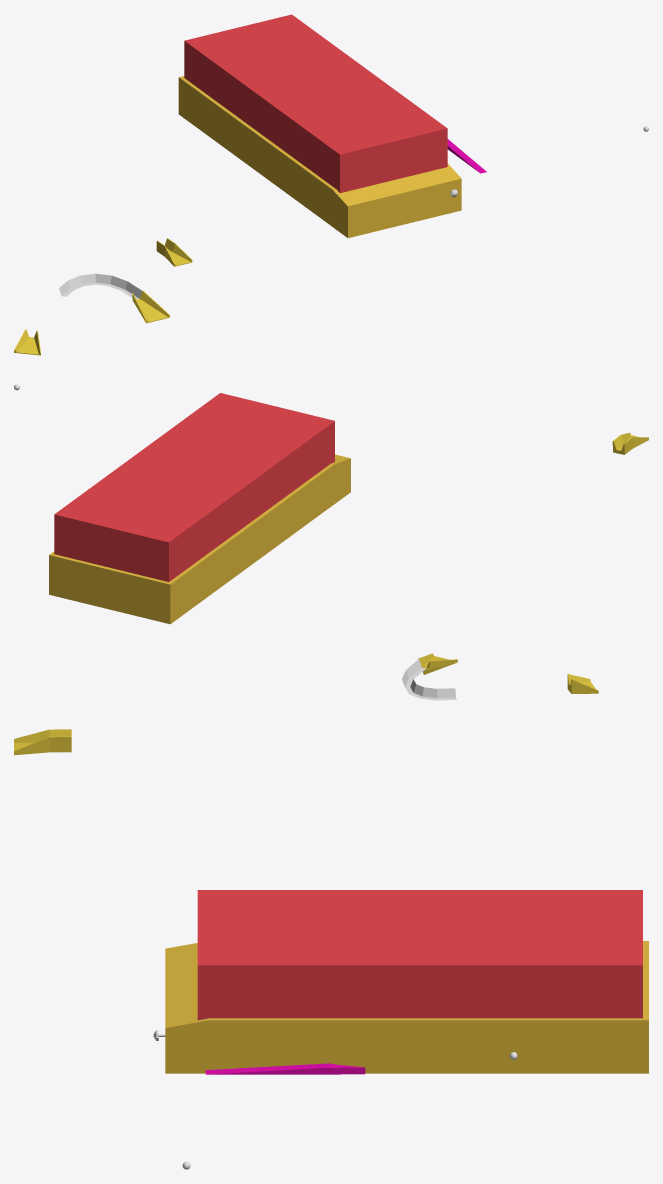
Rendered from table.glb.
3 renders of one model, top to bottom at view 1: azimuth 30°, elevation 25°; view 2: azimuth 150°, elevation 25°; view 3: azimuth 270°, elevation 25°, orthographic. The views are drawn at different scales.
Visible parts, largest first — view 1: glass, near wall, left wall, ramp curve, ramp base, SIMPLE RAMP; view 2: glass, left wall, back wall, ramp curve, near wall, SIMPLE RAMP, SIMPLE RAMP.001, ramp base; view 3: glass, right wall, near wall, back wall, shoot ramp, SIMPLE RAMP.
Boxes of the visible parts, x1,y1,x2,y2 form: glass: [184, 14, 447, 192]; near wall: [333, 163, 461, 237]; left wall: [189, 84, 335, 226]; ramp curve: [59, 273, 142, 299]; ramp base: [132, 290, 169, 323]; SIMPLE RAMP: [156, 238, 192, 266]; glass: [54, 393, 334, 581]; left wall: [178, 463, 334, 615]; back wall: [49, 551, 181, 624]; ramp curve: [402, 659, 456, 700]; near wall: [331, 454, 350, 503]; SIMPLE RAMP: [612, 432, 648, 454]; SIMPLE RAMP.001: [567, 674, 598, 693]; ramp base: [418, 653, 457, 674]; glass: [197, 890, 642, 1020]; right wall: [208, 1018, 619, 1073]; near wall: [165, 943, 208, 1073]; back wall: [619, 941, 648, 1073]; shoot ramp: [205, 1063, 365, 1074]; SIMPLE RAMP: [14, 729, 71, 755].
Size of the model in its own units: 3.33 by 0.8691 by 2.16.
